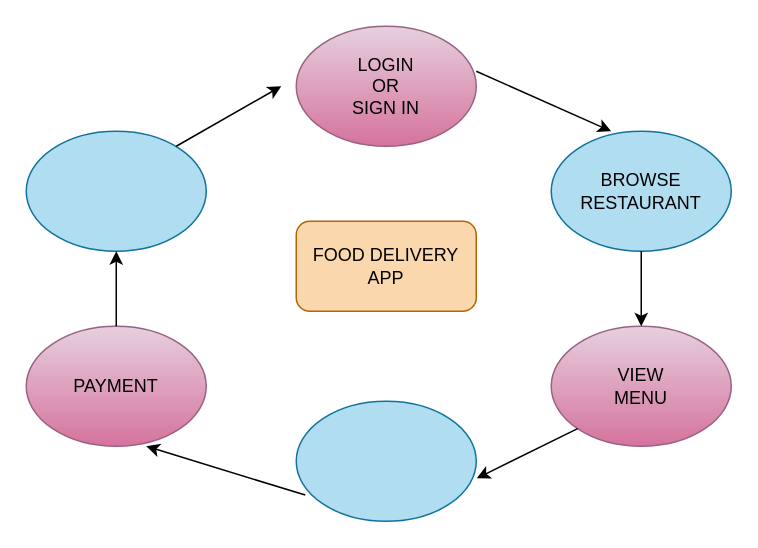
Some shapes in this 758 by 548 pixel diagram are drawn without their labels. The shapes that lost their labels are listed below. From the top down, each one's centre as x and y in pixels, then its label:
pixel 115 190: DELIVERY
pixel 385 460: ADD TO CART AND PLACE ORDER
